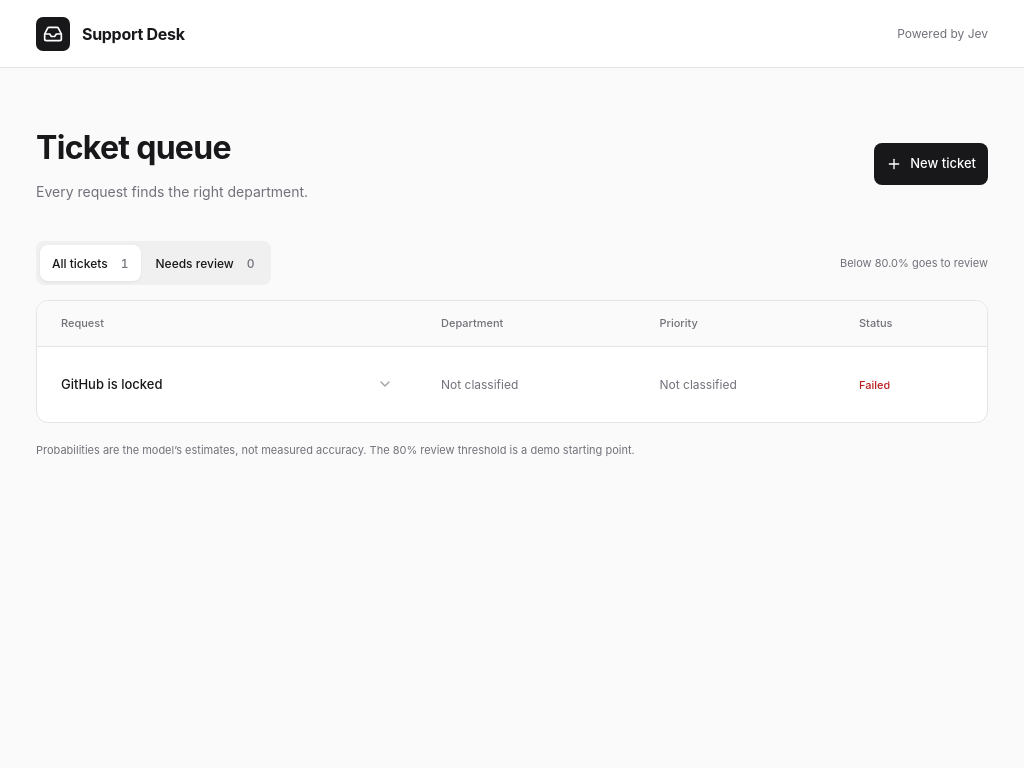
Test: failed ticket retains message and offers retry
Step 1. Click the button "GitHub is locked" → x=112, y=384, box [61,370,393,399]
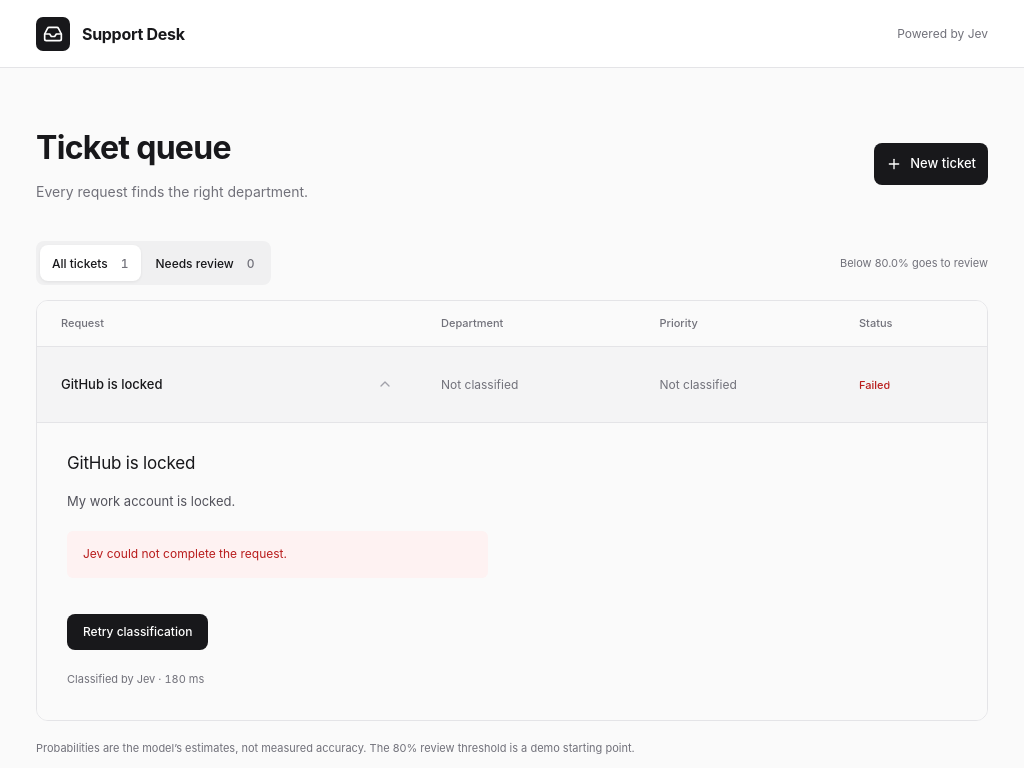
Check: the text "My work account is locked." is shown, box [67,493,235,509]
Step 2. Click the button "Retry classification" → x=138, y=632, box [67,614,208,650]
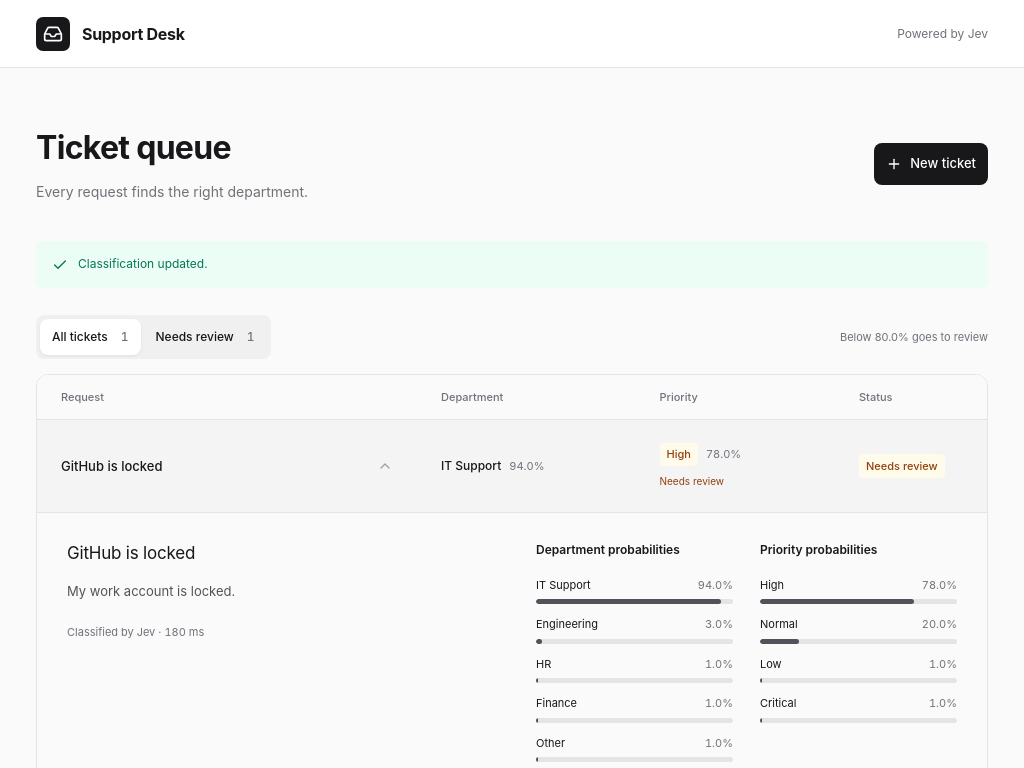
Check: the text "Classification updated." is shown, box [36,241,988,288]
